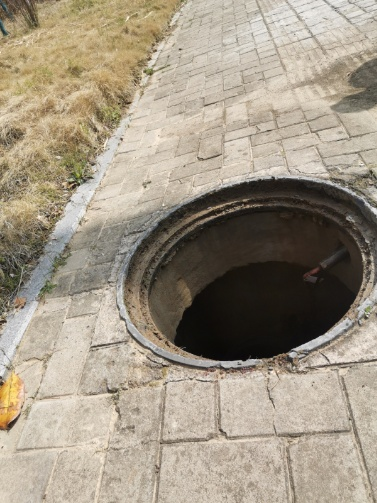lose: (116, 173, 377, 372)
